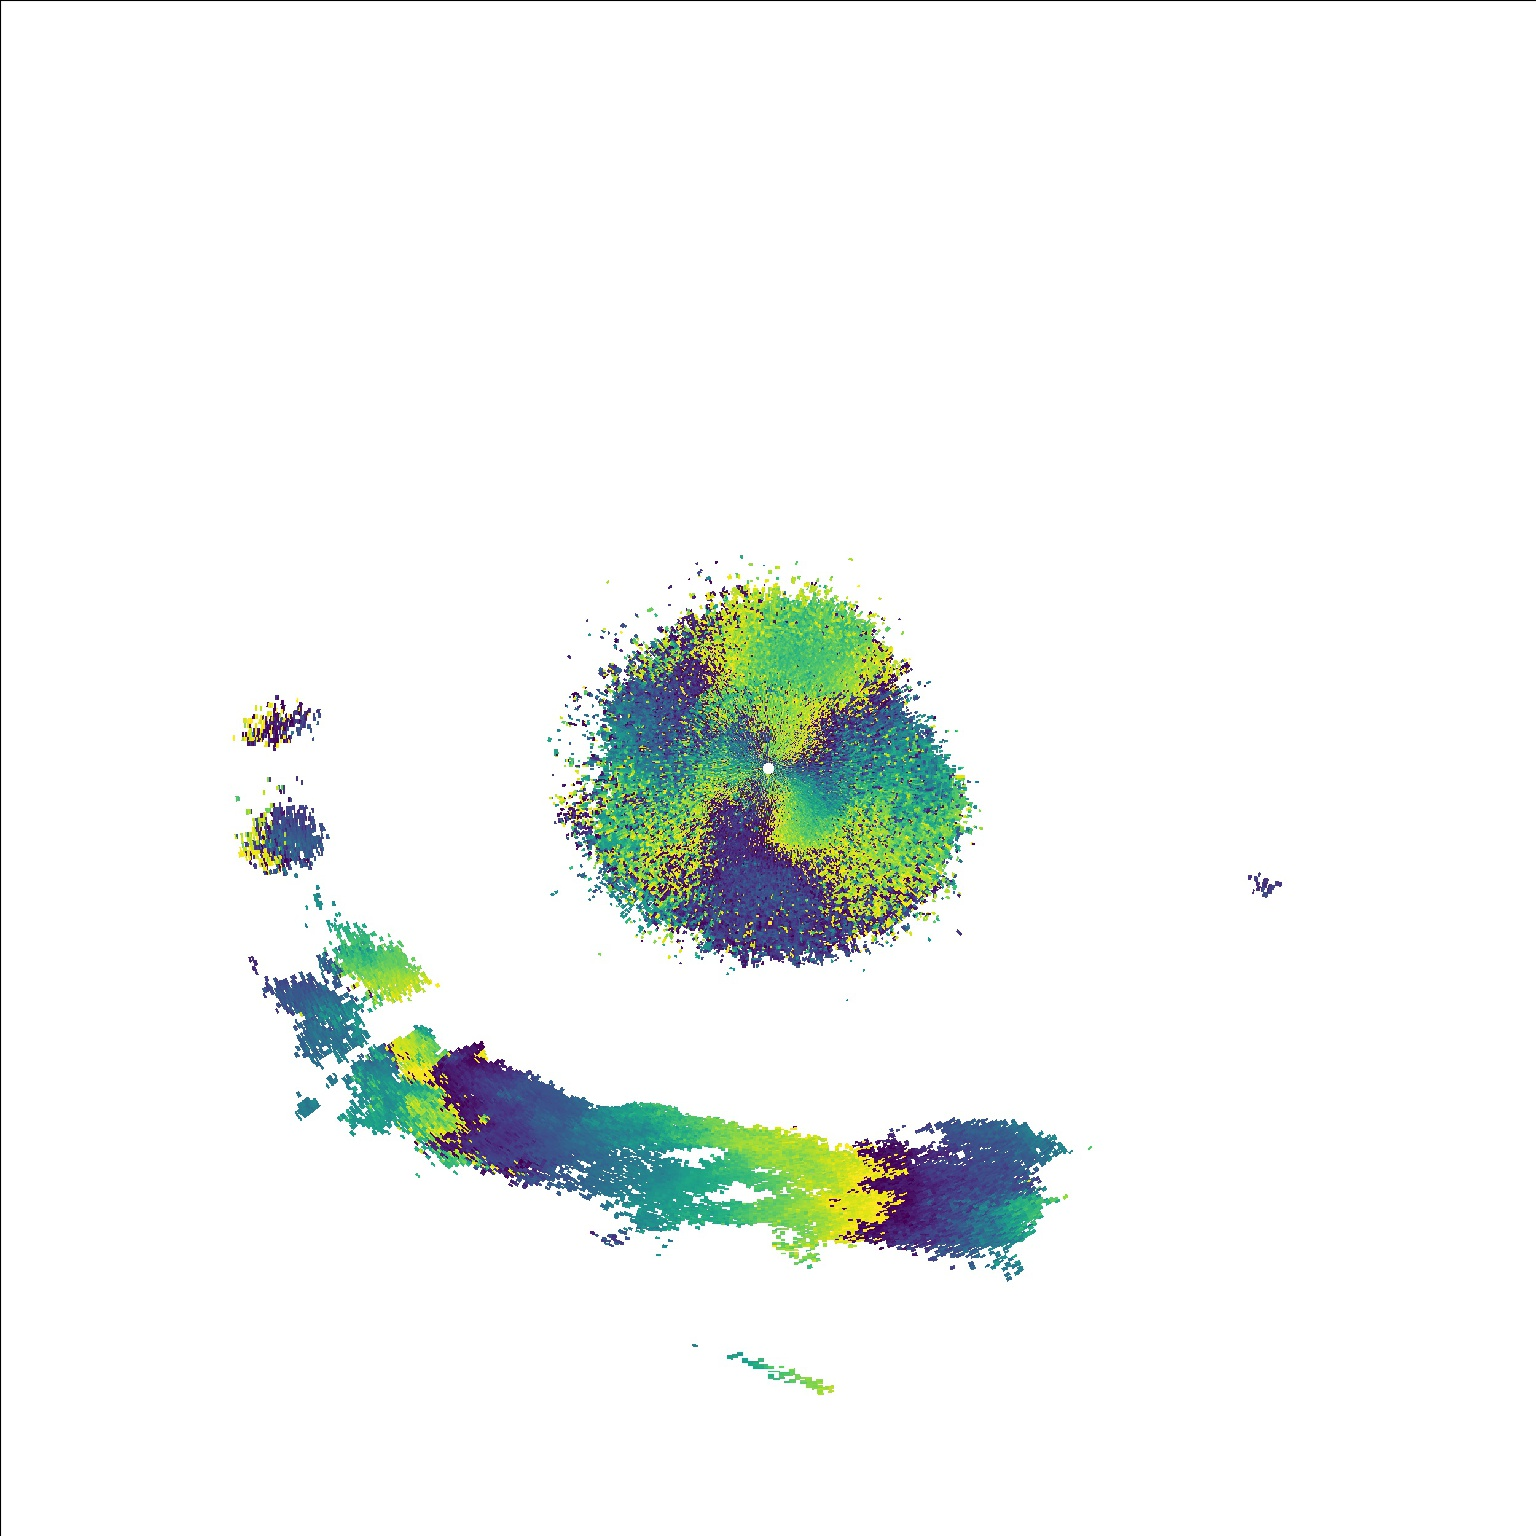fall: (212, 771, 347, 876), (217, 686, 332, 754)
